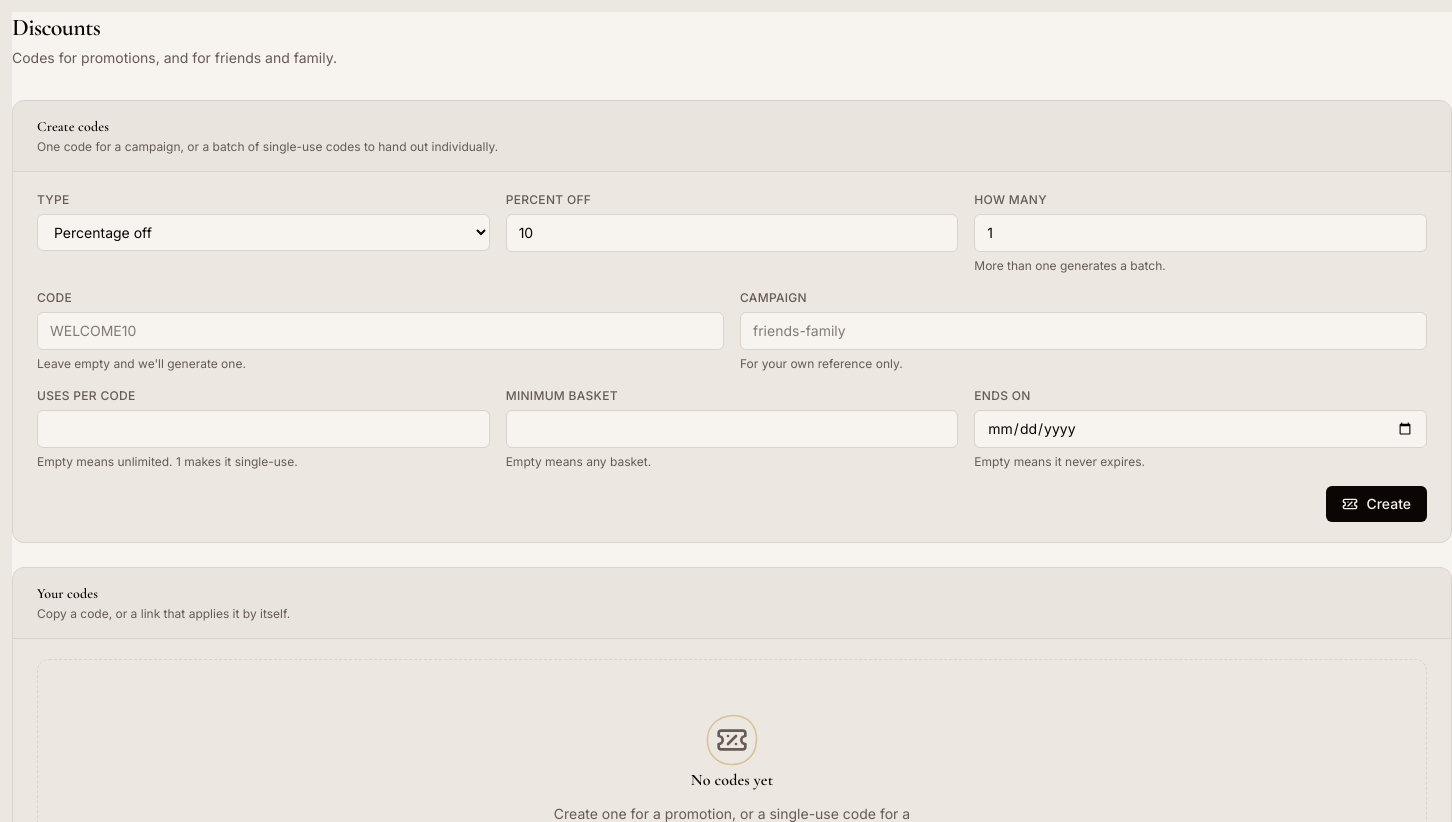
Test: Discounts page — creating › offers a code box for one, and a prefix box for a batch
Check: the field labelled "Code" is shown, box [37,312,724,350]
Check: the field labelled "Prefix" is not shown
Replace the text in the number field labelled "How many" with "50": (1201, 233) [974,214,1427,252]
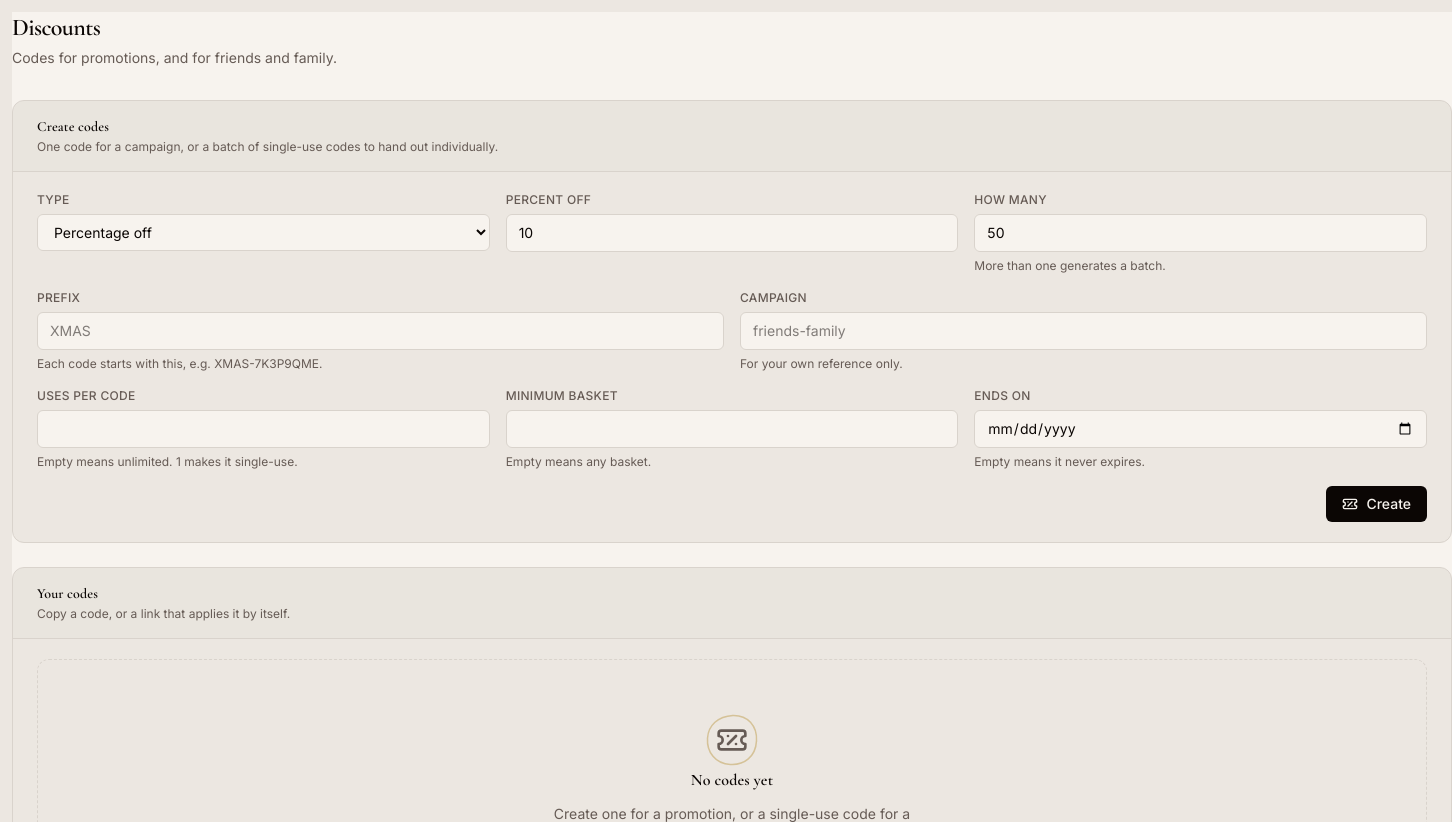
Check: the field labelled "Prefix" is shown, box [37,312,724,350]
